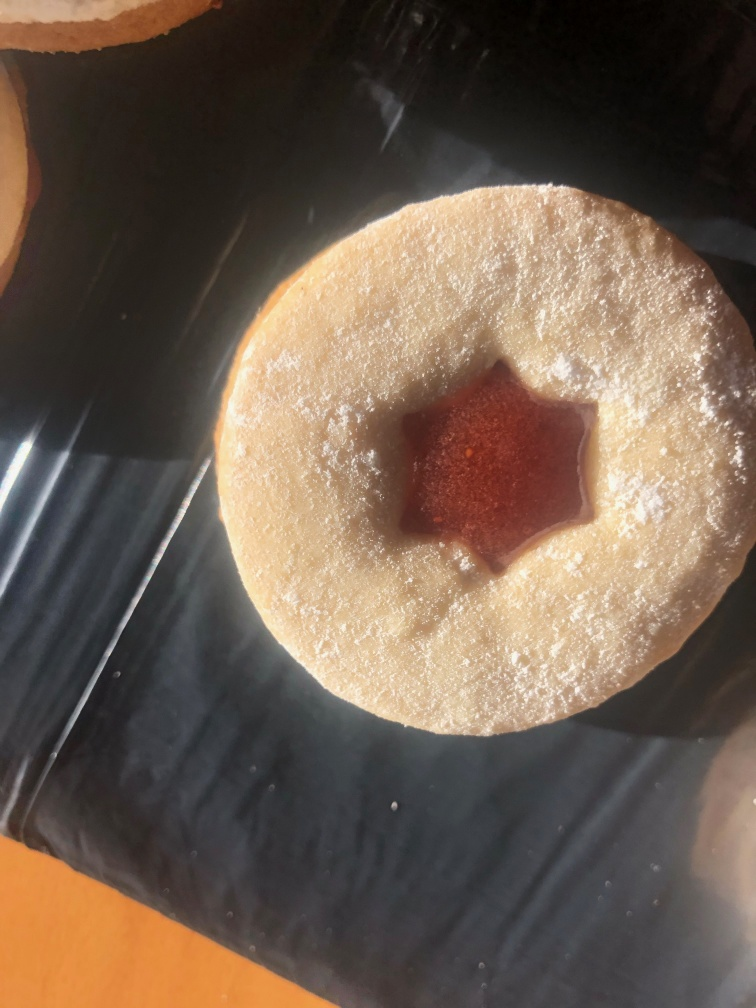christmas shortbread with jam: (210, 174, 756, 761)
